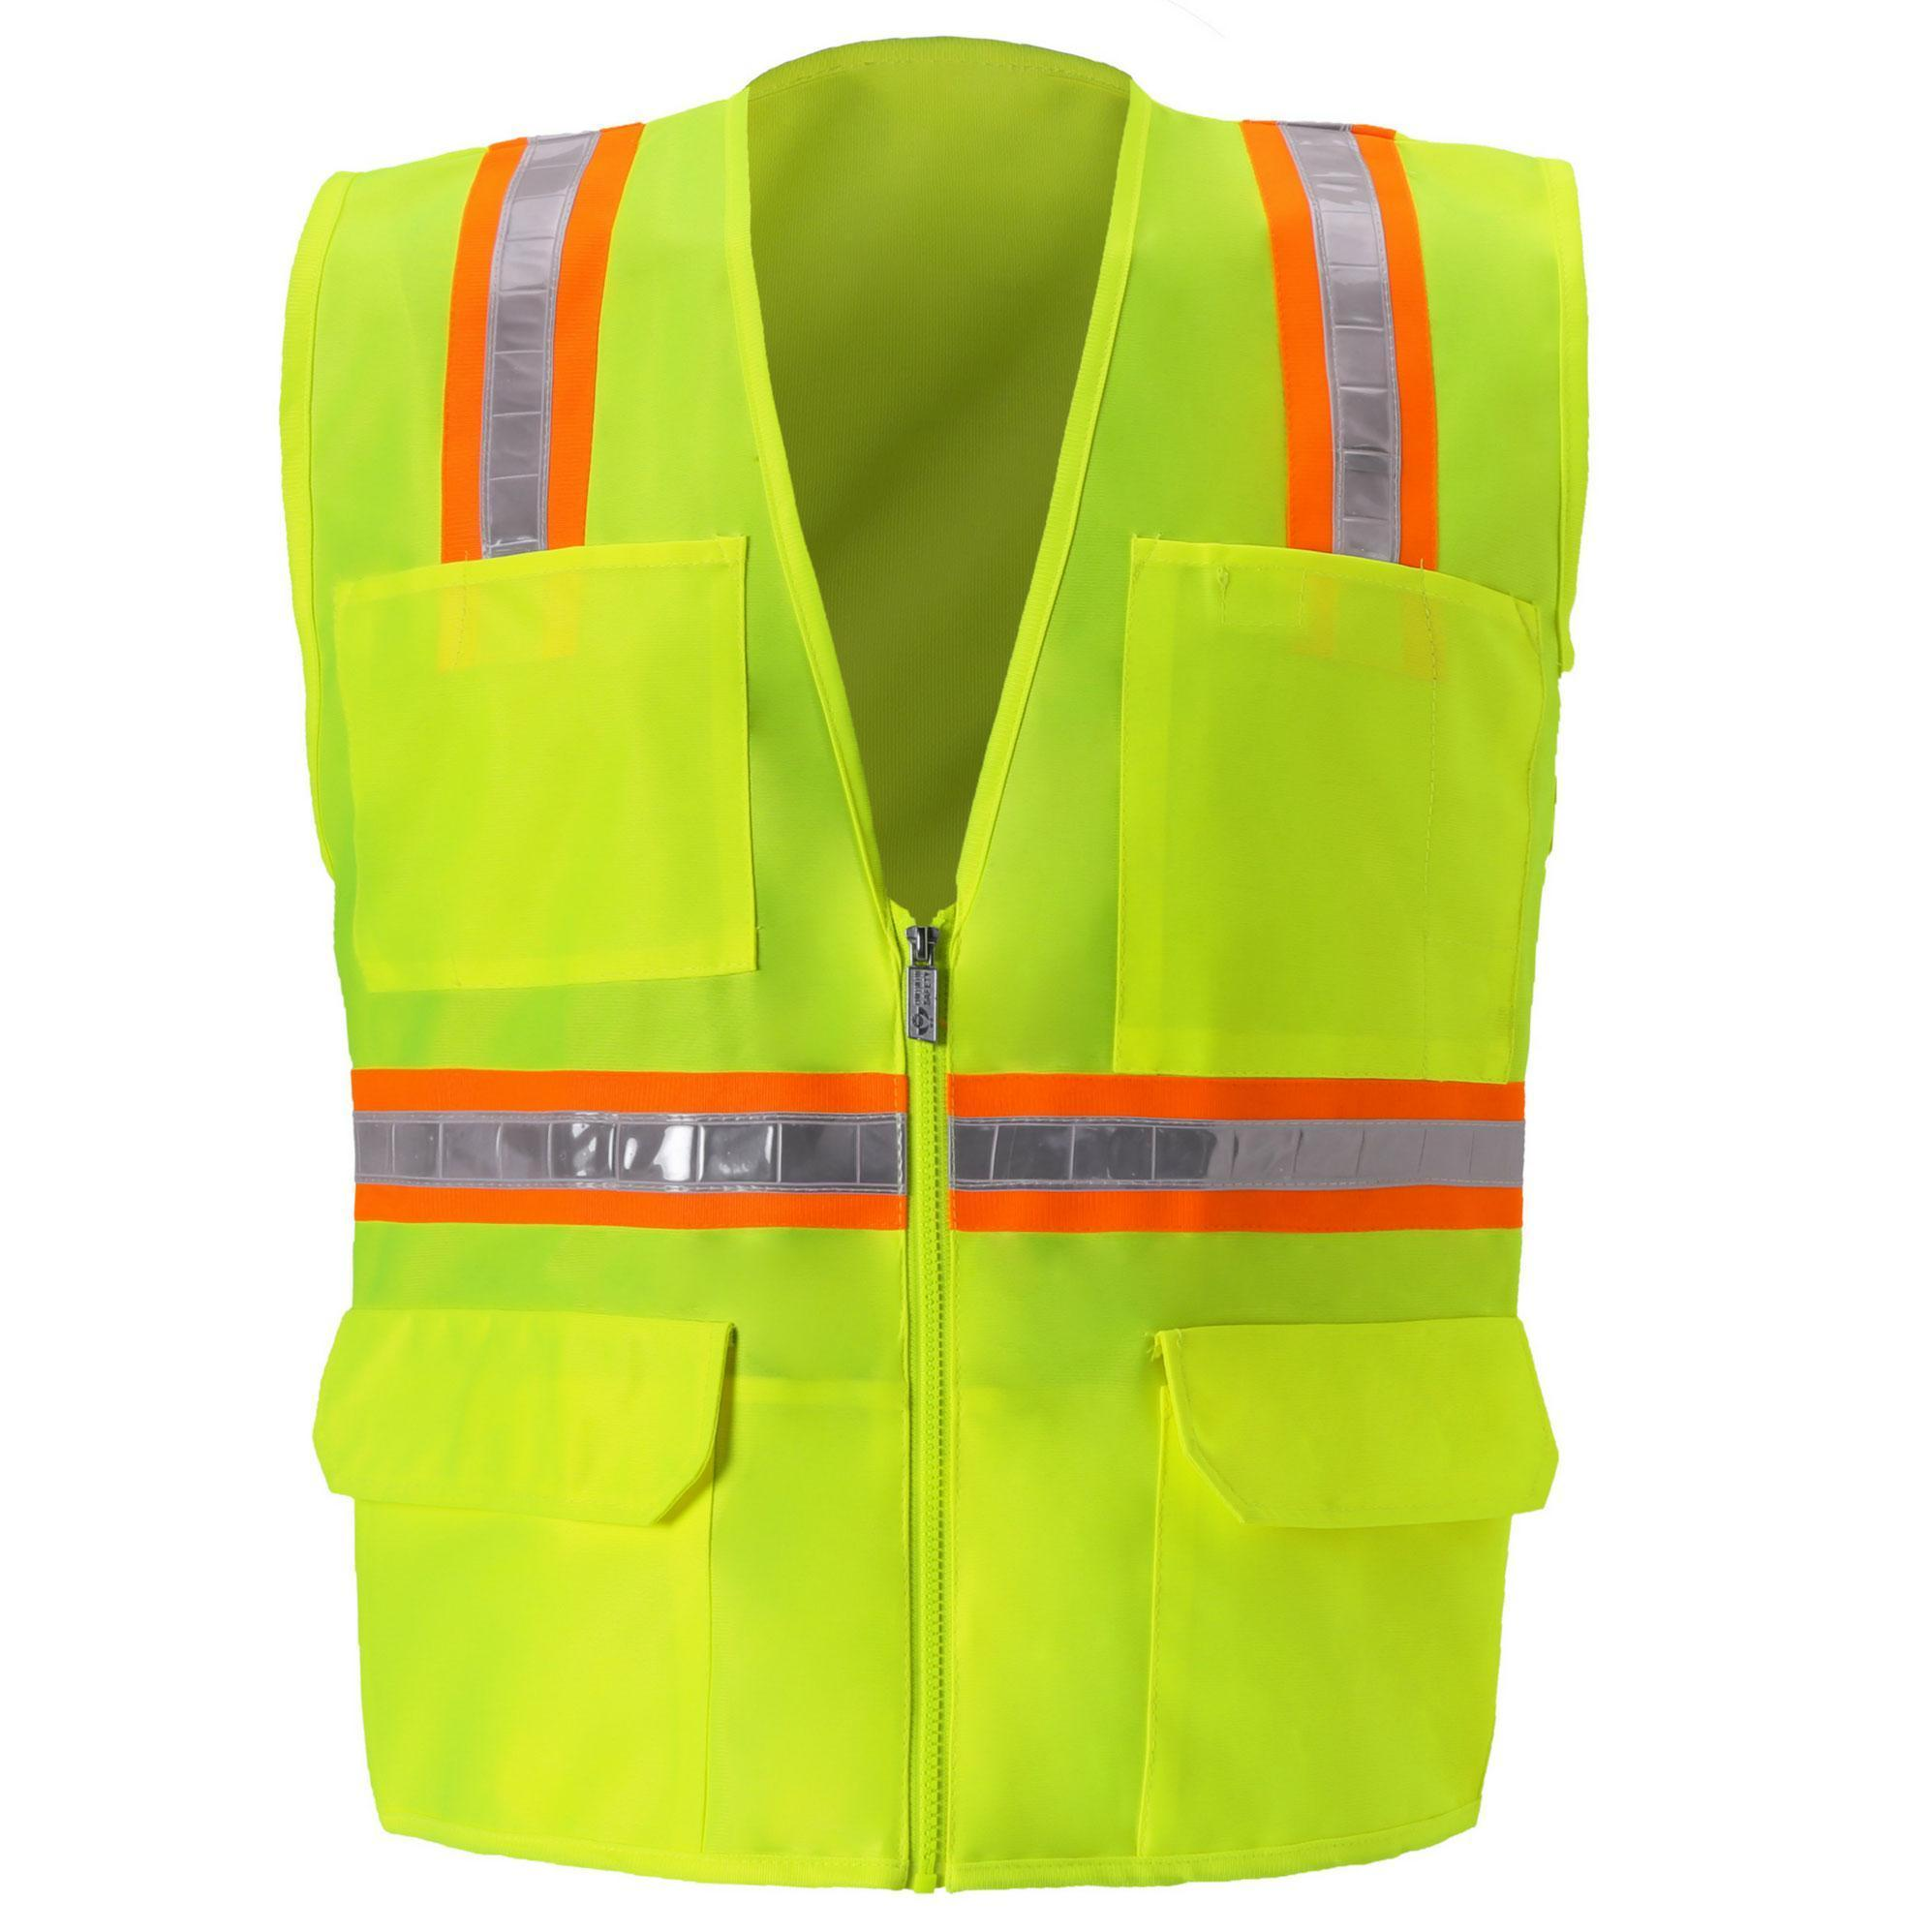vest: (262, 41, 1589, 1898)
